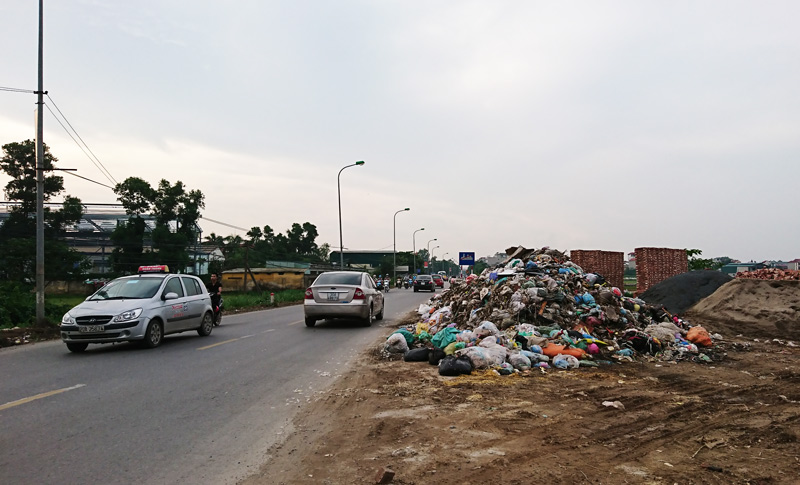plastic bag: (378, 248, 725, 374)
